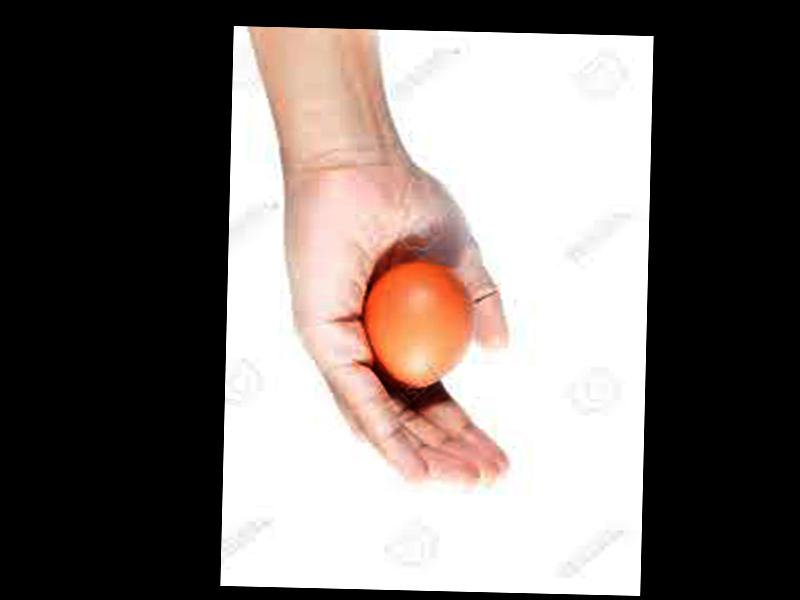Eggs: (364, 261, 473, 387)
